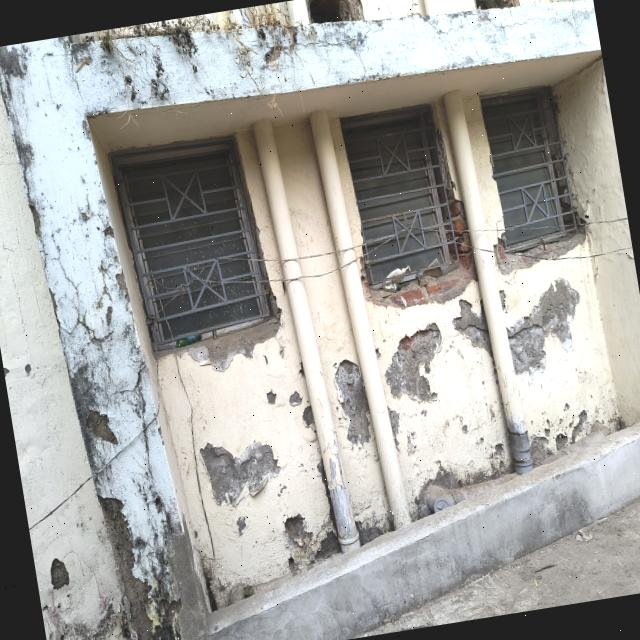Crack: (50, 230, 153, 485), (262, 28, 382, 66)
Scaling: (98, 496, 182, 640), (507, 278, 580, 377), (200, 442, 281, 506), (335, 360, 370, 446), (568, 167, 598, 256), (453, 299, 491, 354), (87, 410, 118, 445), (50, 558, 69, 590), (116, 272, 128, 300), (103, 226, 113, 237)
Spalling: (361, 127, 476, 309), (174, 281, 282, 371), (494, 223, 586, 277), (385, 323, 441, 402), (530, 410, 587, 467), (29, 203, 41, 236)
pollution -moisture induced blackening: (0, 9, 265, 192)
